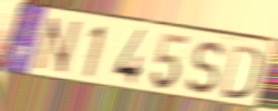1: (81, 24, 108, 80)
4: (111, 27, 148, 89)
5: (149, 31, 192, 92)
D: (219, 42, 263, 102)
N: (30, 16, 83, 77)
S: (184, 40, 226, 97)
